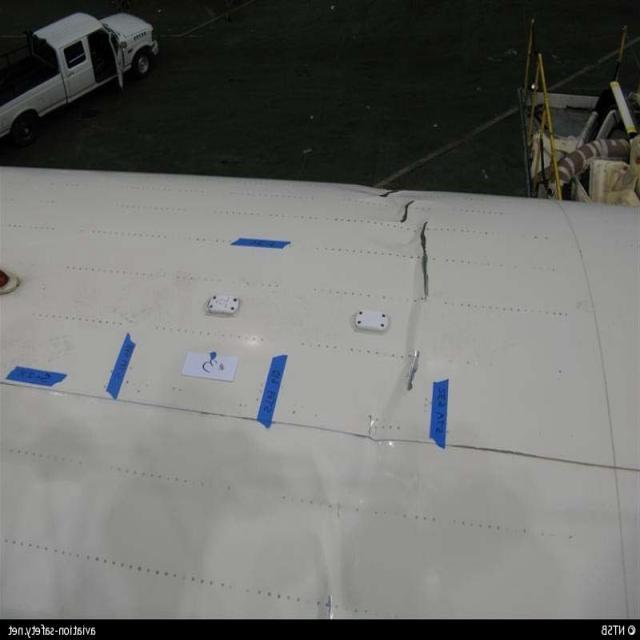crack: (416, 218, 436, 305), (403, 345, 425, 398), (400, 196, 420, 228)
